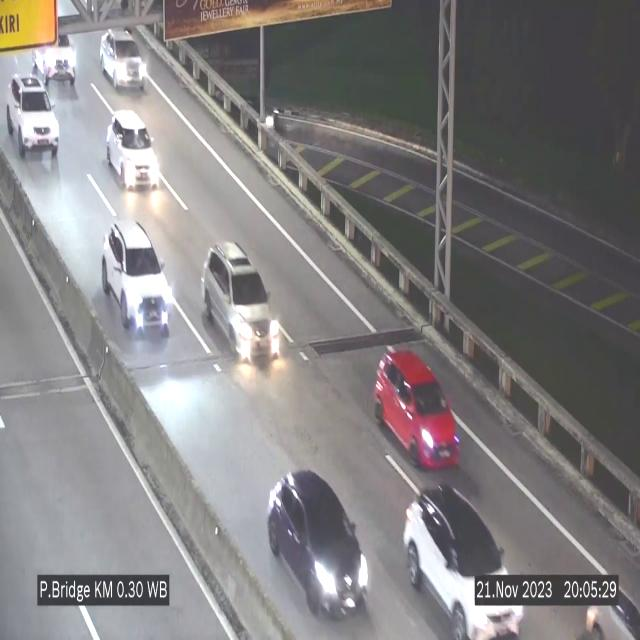Car: (403, 483, 522, 640), (268, 470, 368, 615), (373, 350, 461, 468), (202, 242, 280, 359), (102, 214, 174, 340), (574, 554, 640, 640), (7, 77, 58, 160), (29, 13, 83, 90), (107, 111, 159, 189), (100, 30, 146, 92)
